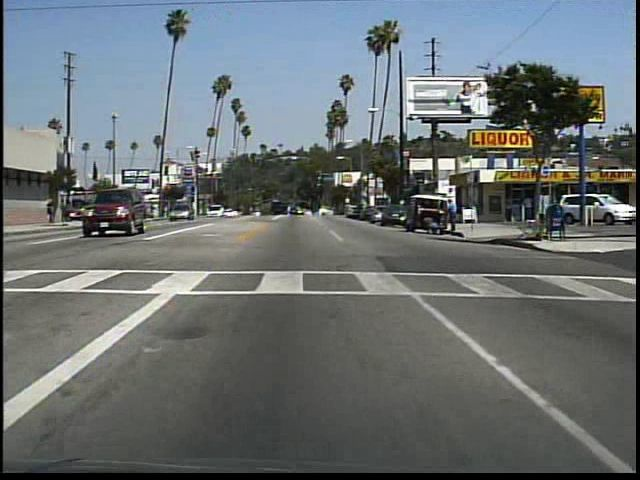person: (447, 194, 465, 235), (501, 190, 518, 223), (422, 216, 441, 235), (524, 192, 536, 222), (48, 197, 57, 226)
